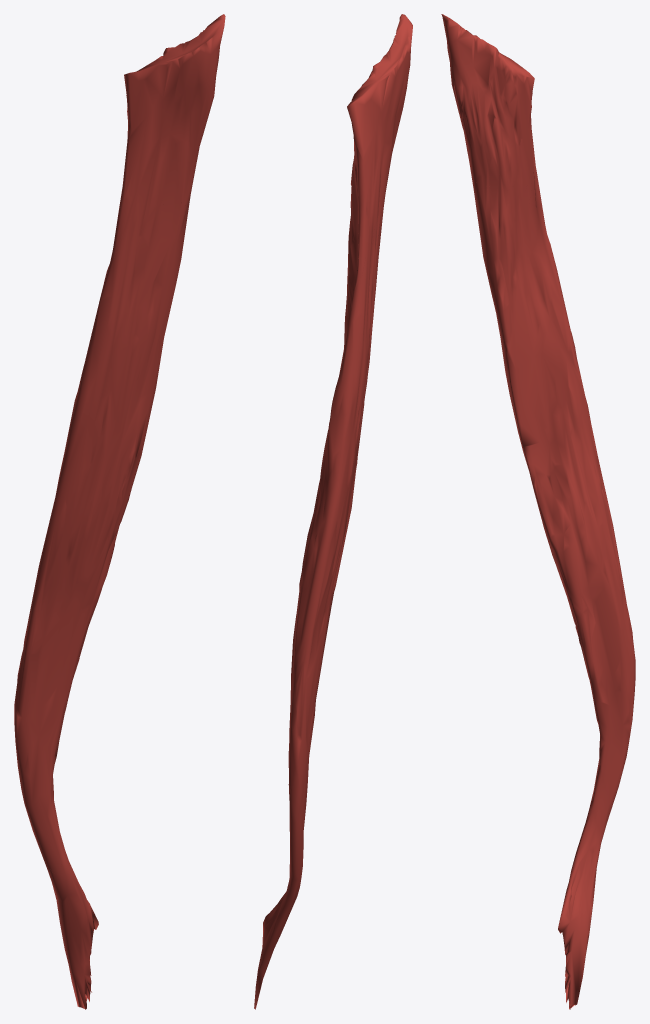
Rendered from musculos-gracilis-muscle-l.glb.
3 renders of one model, left to right at view 1: azimuth 90°, elevation 25°; view 2: azimuth 150°, elevation 25°; view 3: azimuth 270°, elevation 25°, orthographic. The views are drawn at different scales.
Parts seen in each view (by area): view 1: Gracilis muscle.l; view 2: Gracilis muscle.l; view 3: Gracilis muscle.l.
Boxes of the visible parts, <box> form: Gracilis muscle.l: <box>14,14,225,1009</box>; Gracilis muscle.l: <box>254,14,412,1009</box>; Gracilis muscle.l: <box>441,14,635,1009</box>.
Bounding box in the file's own units: 0.0531 × 0.4928 × 0.0907.
